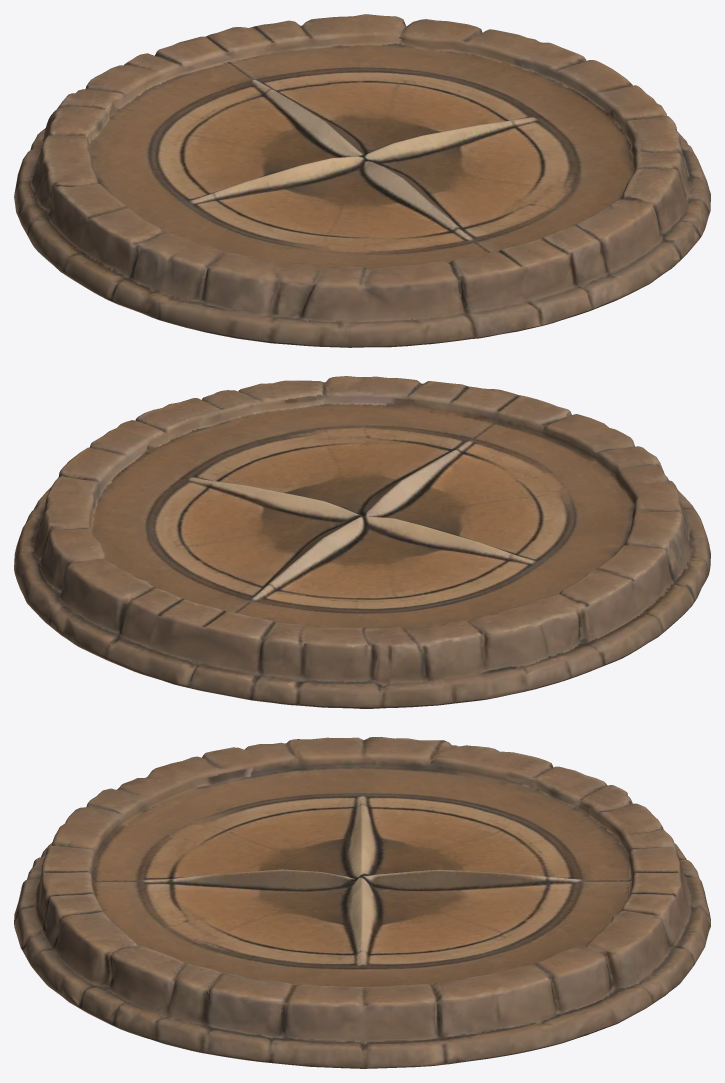
Rendered from crown-dais.glb.
3 views of the same model, one above another, from view 1: azimuth 30°, elevation 25°; view 2: azimuth 150°, elevation 25°; view 3: azimuth 270°, elevation 25° (orthographic).
Parts seen in each view (by area): view 1: crown-dais.raw; view 2: crown-dais.raw; view 3: crown-dais.raw.
Boxes of the visible parts, x1,y1,x2,y2 form: crown-dais.raw: (14, 14, 710, 347); crown-dais.raw: (14, 376, 710, 708); crown-dais.raw: (14, 737, 710, 1068).
Bounding box in the file's own units: 117 × 10 × 118.
1 material, 1 textured.
